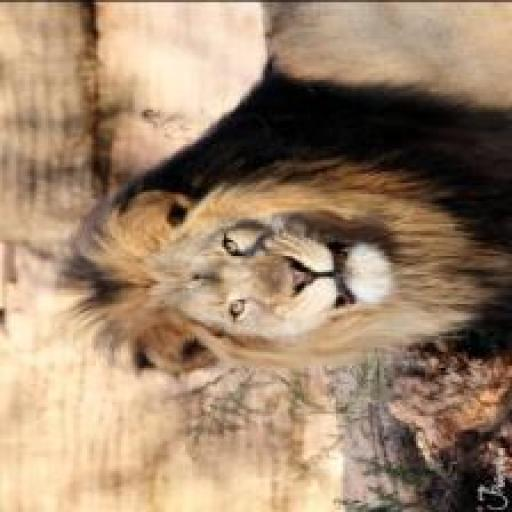lion: (41, 2, 512, 389)
